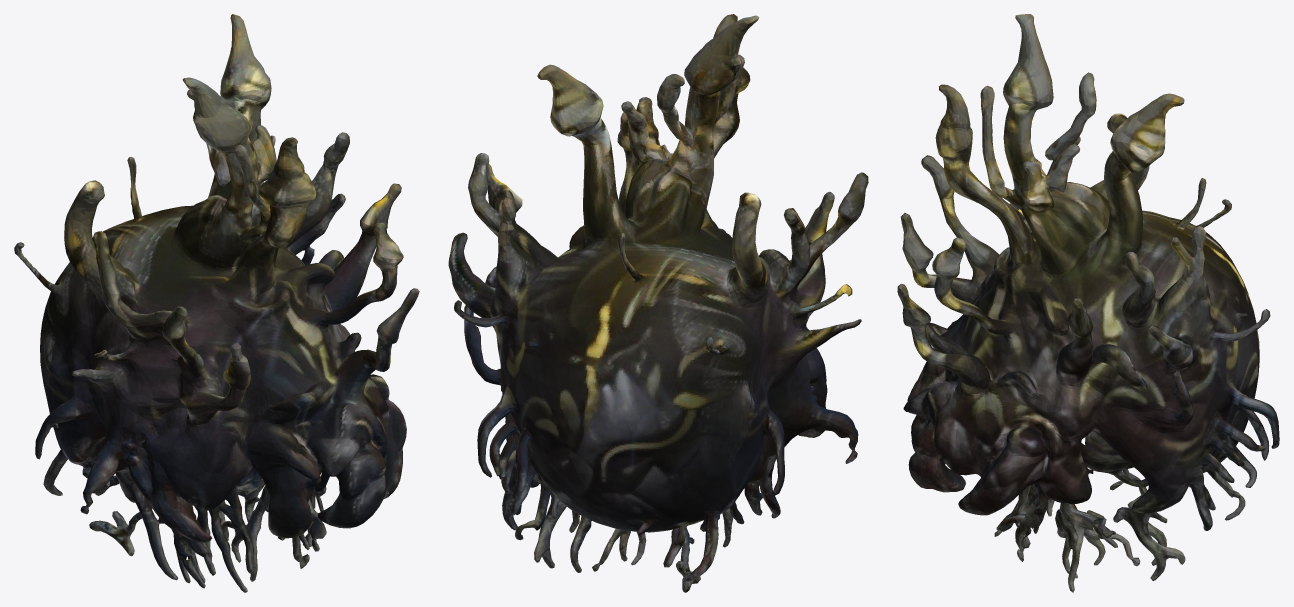
Rendered from invasive_exofungus.glb.
3 renders of one model, left to right at view 1: azimuth 30°, elevation 25°; view 2: azimuth 150°, elevation 25°; view 3: azimuth 270°, elevation 25°, orthographic. The views are drawn at different scales.
Size of the model in its own units: 1.29 by 1.9 by 1.26.
Materials: 1 (1 with a texture image).
